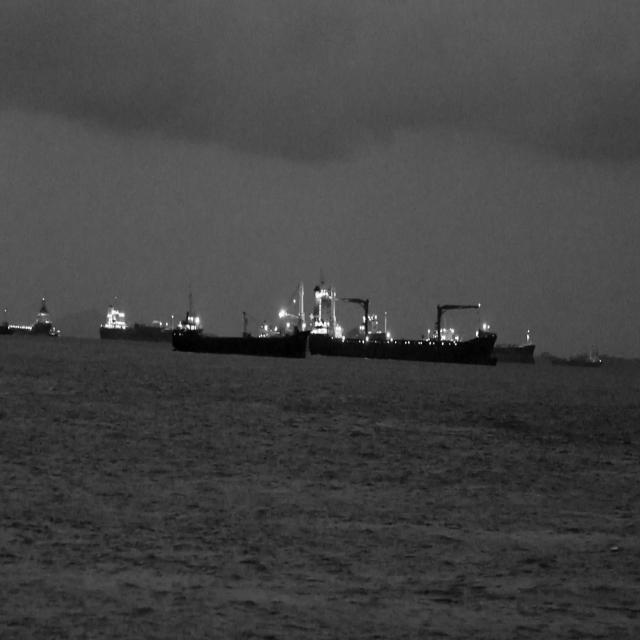ship: (307, 280, 496, 364), (170, 279, 307, 355), (97, 300, 170, 340), (1, 292, 51, 336), (492, 325, 534, 364), (548, 341, 604, 370), (48, 326, 61, 341)
